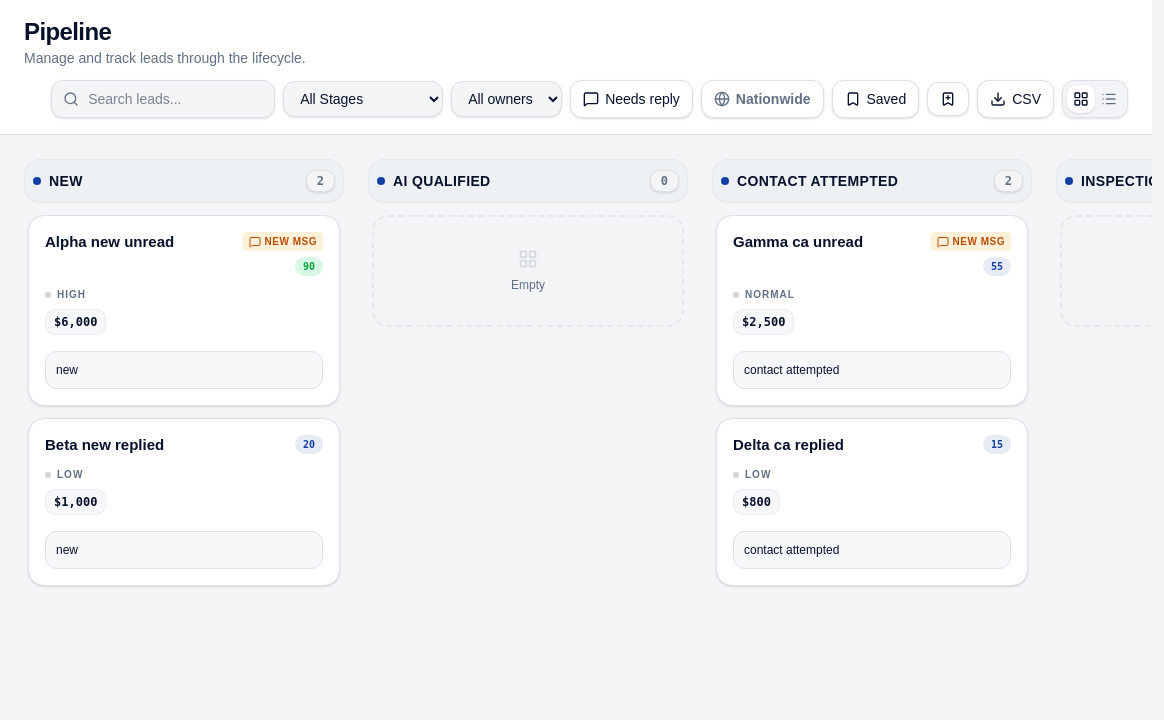
Scenario: Pipeline "Needs reply" filter › stacked stage + needs-reply filters › restores the stage superset when needs-reply is cleared
Expected: the link "Alpha new unread" is shown, x1=45 y1=232 x2=174 y2=253
Set stage to "new" — server returns only alpha + beta.
Select "new" in the dropdown below "Pipeline": (363, 99) x1=283 y1=81 x2=443 y2=117
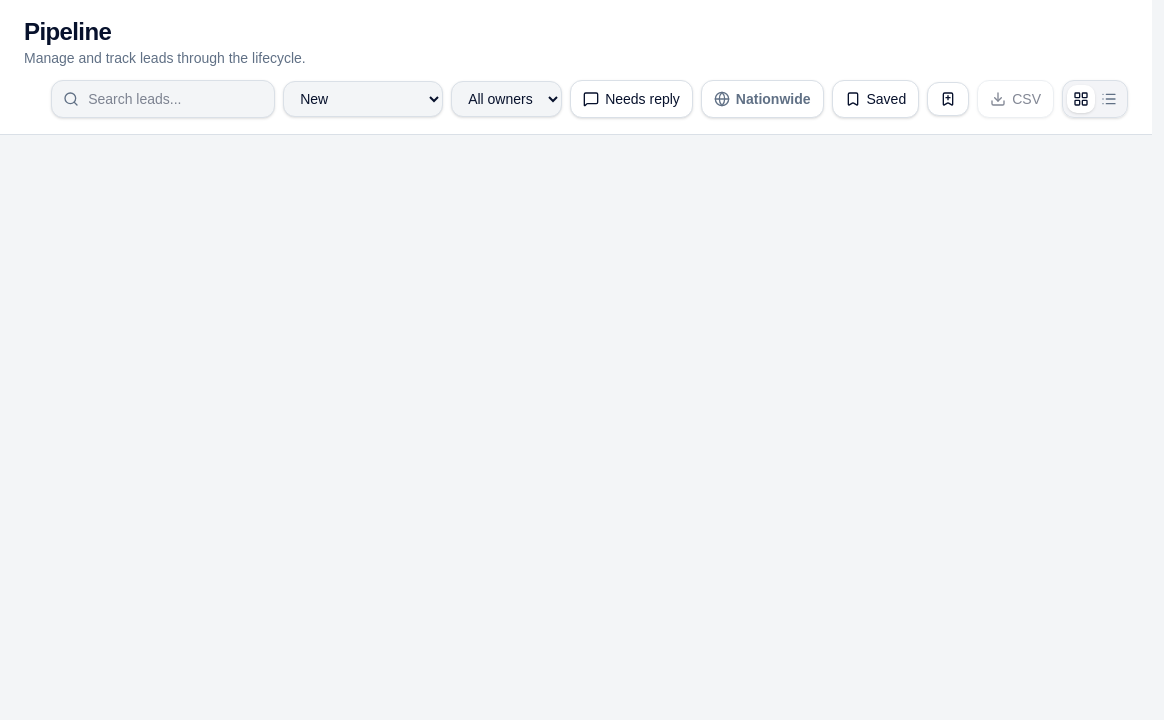
Result: no links "Gamma ca unread" are shown
Enable needs-reply → only alpha remains.
Click the button with test id "needs-reply-filter": (631, 99) x1=570 y1=80 x2=693 y2=118
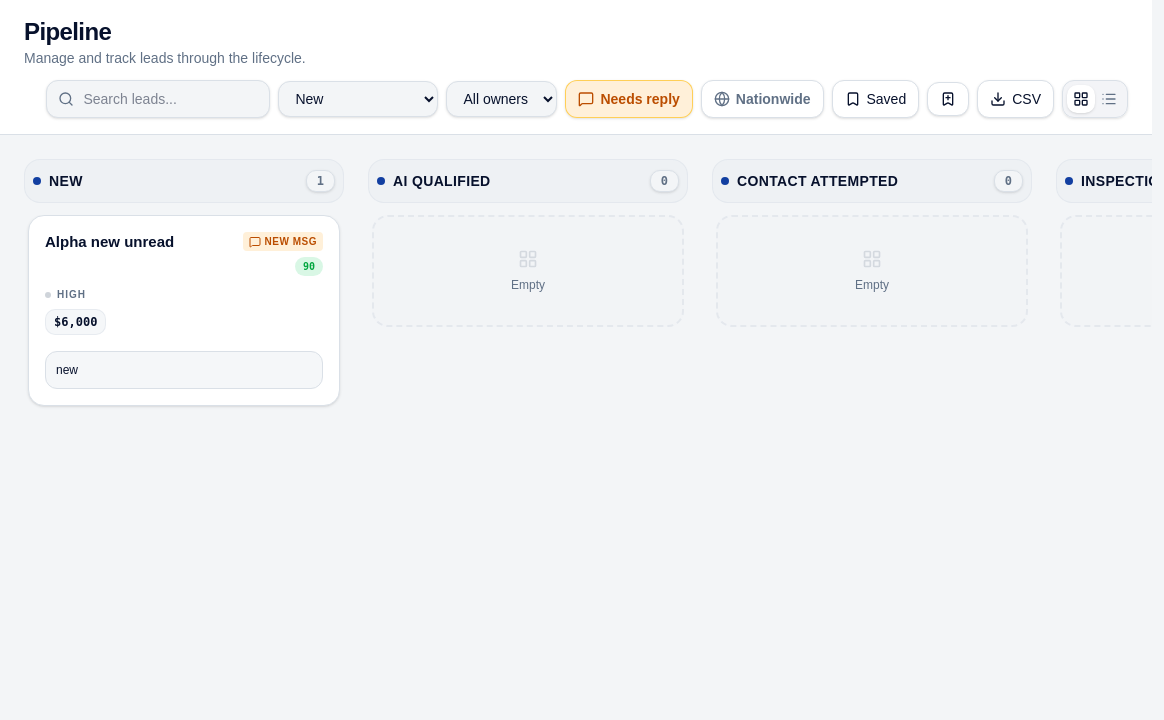
Result: the link "Alpha new unread" is shown at x1=45 y1=232 x2=174 y2=253
Clear needs-reply → both "new" leads return.
Click the button with test id "needs-reply-filter": (629, 99) x1=566 y1=80 x2=693 y2=118
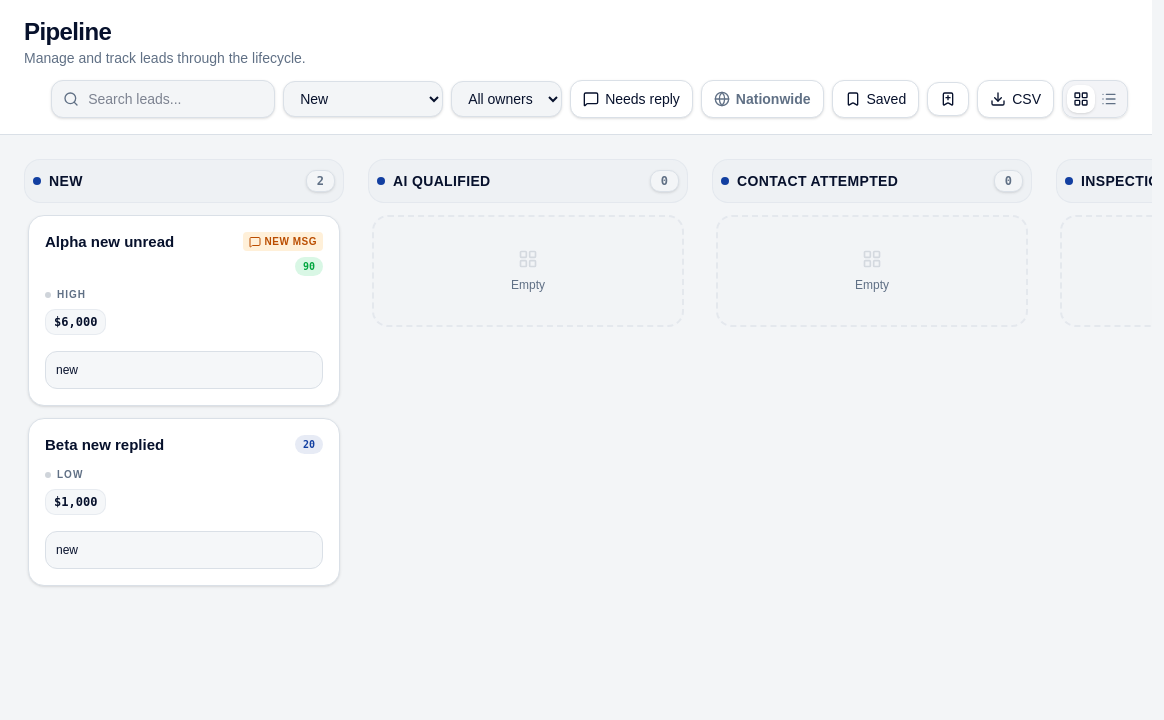
Result: the link "Alpha new unread" is shown at x1=45 y1=232 x2=174 y2=253
Result: the link "Beta new replied" is shown at x1=45 y1=435 x2=164 y2=456
